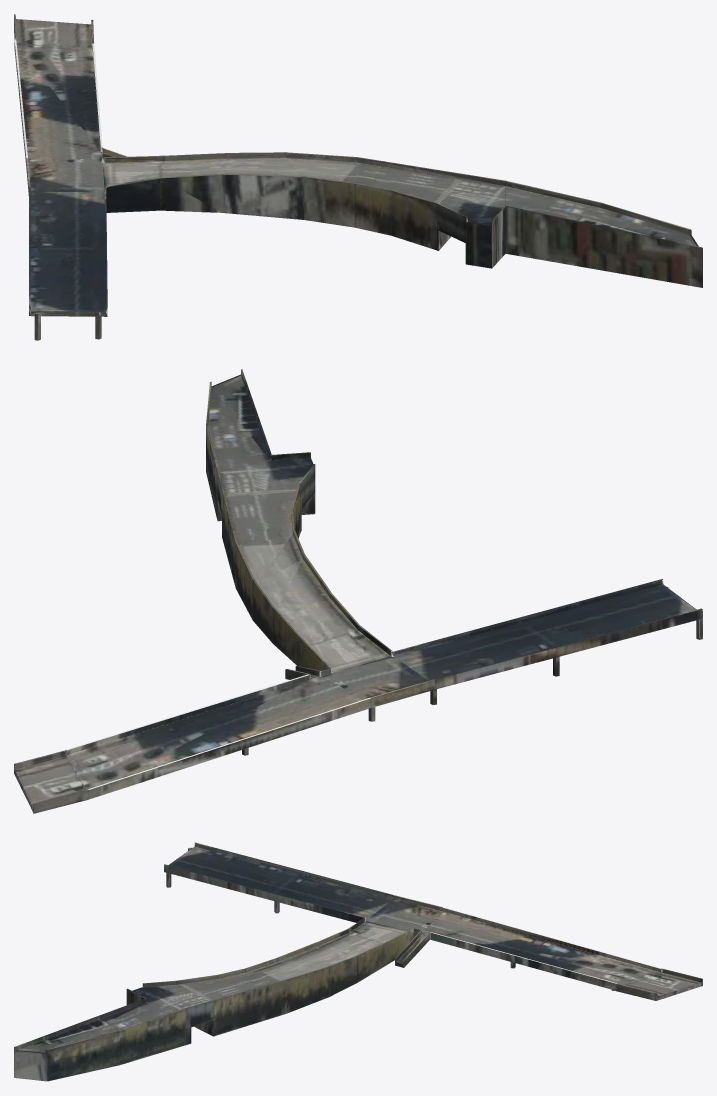
Rendered from bridge_1_1.glb.
3 renders of one model, top to bottom at view 1: azimuth 30°, elevation 25°; view 2: azimuth 150°, elevation 25°; view 3: azimuth 270°, elevation 25°, orthographic. The views are drawn at different scales.
Bounding box in the file's own units: 128 × 10.47 × 174.
Materials: 2 (1 with a texture image).
